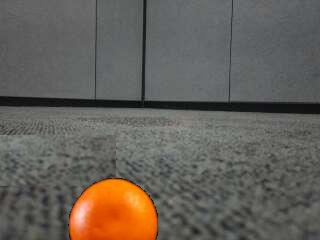Orange: (65, 173, 161, 240)
